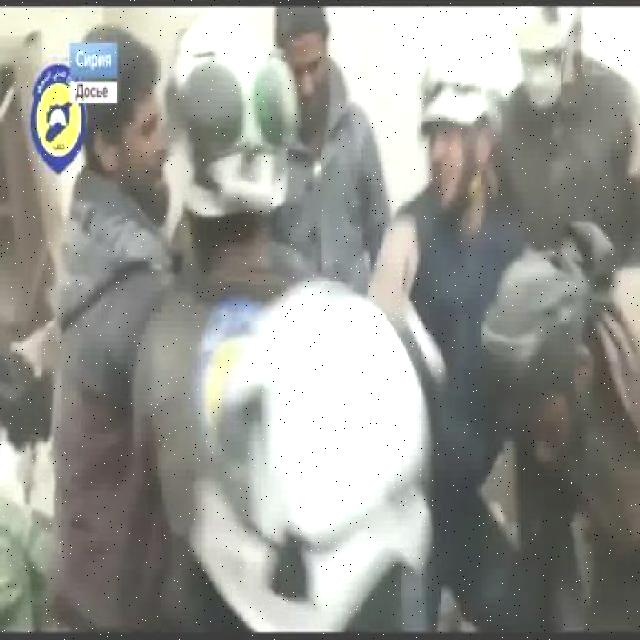Helmet: (188, 272, 434, 640), (168, 9, 289, 222), (418, 39, 504, 142), (506, 0, 589, 58)
